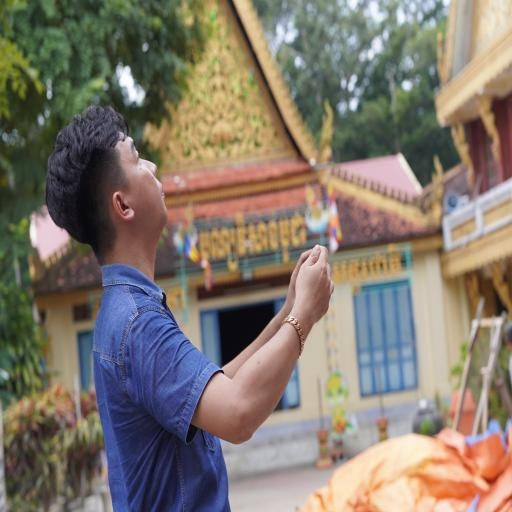ran: (322, 99, 336, 158), (432, 160, 446, 217)
than: (206, 62, 238, 144)
